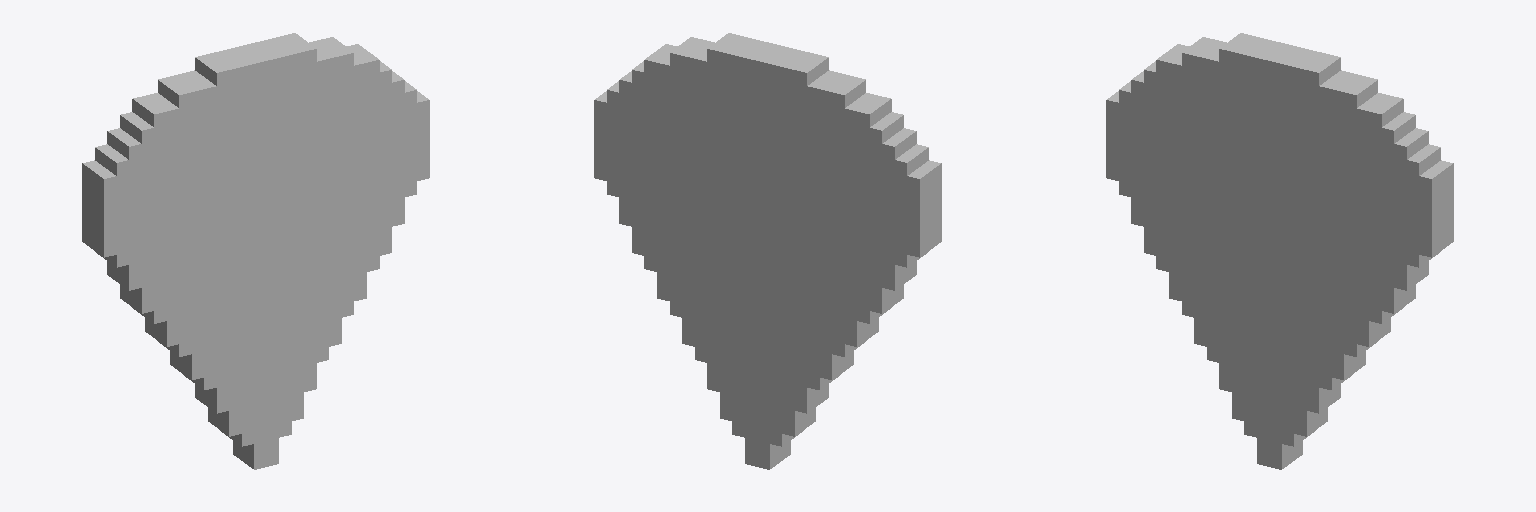
File: indicator.obj
The picture shows the model from 3 angles: view 1: azimuth 30°, elevation 25°; view 2: azimuth 150°, elevation 25°; view 3: azimuth 330°, elevation 25°; orthographic projection.
Visible parts, largest first — view 1: object 1; view 2: object 1; view 3: object 1.
Part boxes in pixels (bbox=[...]): object 1: bbox=[82, 33, 429, 469]; object 1: bbox=[594, 33, 941, 469]; object 1: bbox=[1106, 33, 1453, 469].
Size of the model in its own units: 2.6 by 3.1 by 0.3.